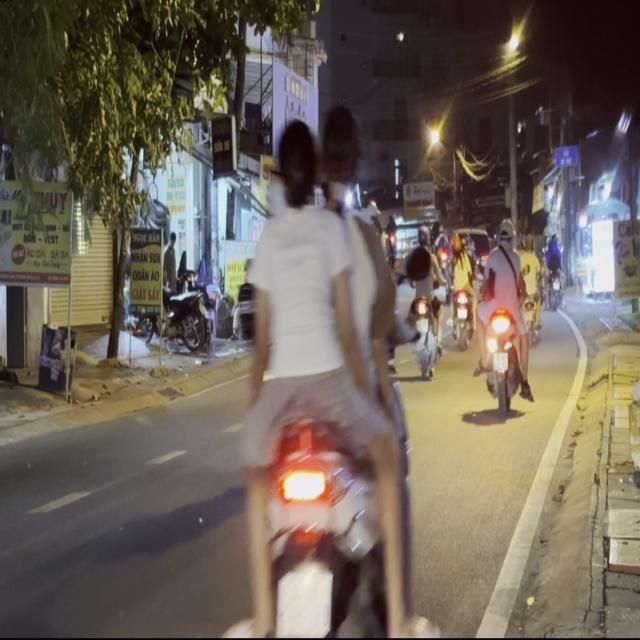licenseplate: (217, 102, 429, 630), (474, 211, 532, 418)
motorcyclist: (316, 102, 361, 198), (273, 116, 319, 206), (499, 218, 518, 249)
nohelmet: (277, 566, 330, 633), (492, 351, 508, 371)
